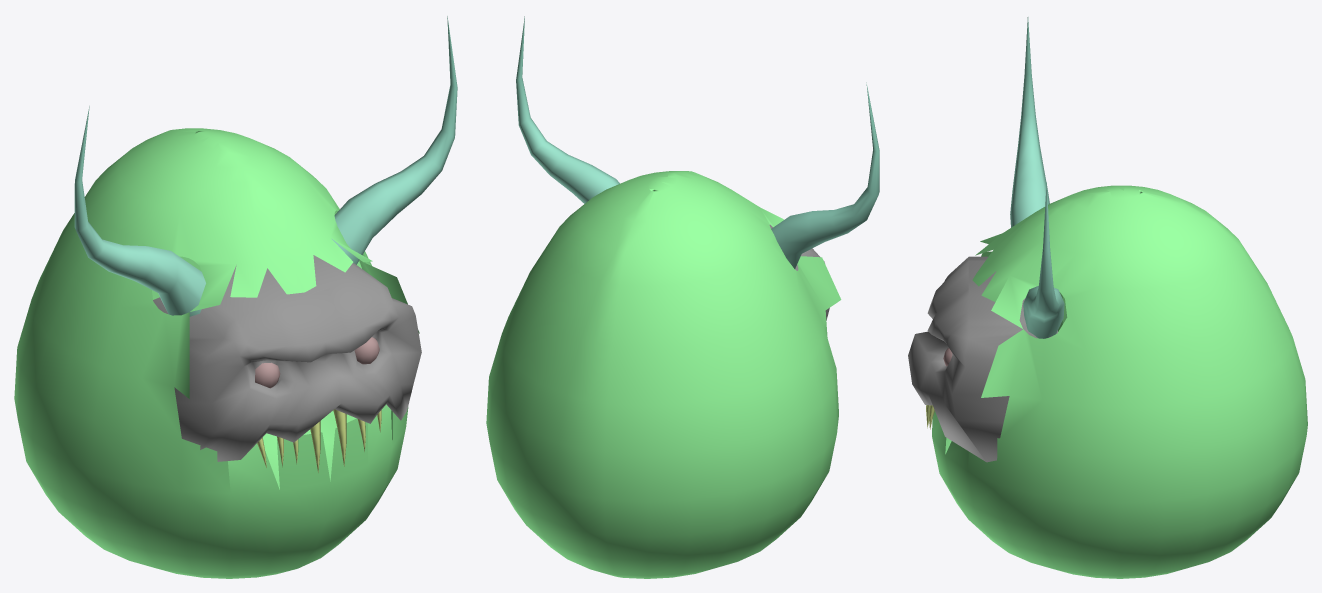
Rendered from monster_04.FBX.
The picture shows the model from 3 angles, left to right: view 1: azimuth 30°, elevation 25°; view 2: azimuth 150°, elevation 25°; view 3: azimuth 270°, elevation 25°; orthographic projection. The views are drawn at different scales.
Visible parts, largest first — view 1: Egg001; view 2: Egg001; view 3: Egg001.
Part boxes in pixels (bbox=[...]): Egg001: bbox=[14, 16, 457, 578]; Egg001: bbox=[486, 16, 879, 578]; Egg001: bbox=[908, 17, 1307, 578].
Bounding box in the file's own units: 110 × 143 × 110.
